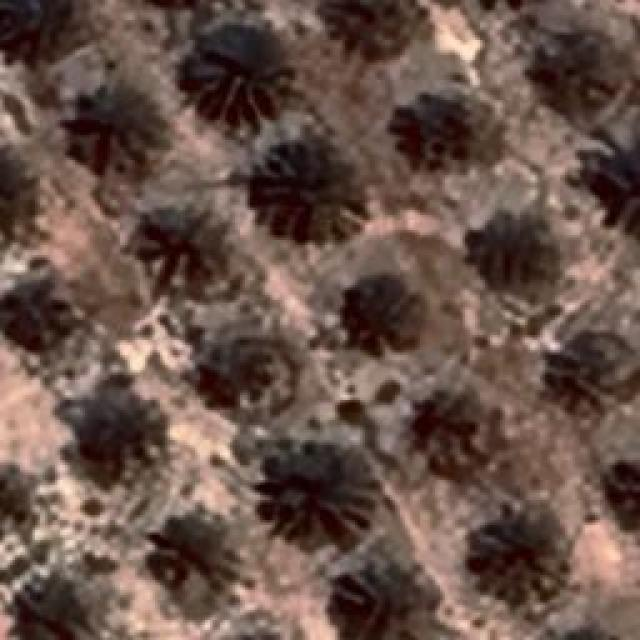PalmTree: (252, 138, 368, 242), (182, 30, 288, 128), (390, 84, 502, 174), (270, 458, 378, 540), (465, 515, 565, 603), (137, 210, 230, 300), (68, 390, 158, 478), (412, 386, 500, 474), (64, 84, 156, 166), (470, 208, 555, 294), (530, 31, 618, 114), (318, 0, 432, 58), (330, 570, 430, 632), (200, 340, 282, 415), (0, 268, 75, 350), (344, 274, 424, 348), (154, 512, 232, 586), (585, 129, 640, 229), (567, 338, 640, 411), (6, 2, 69, 68), (0, 145, 41, 244), (14, 582, 82, 632), (0, 460, 37, 535), (602, 458, 640, 529), (544, 618, 624, 640)
